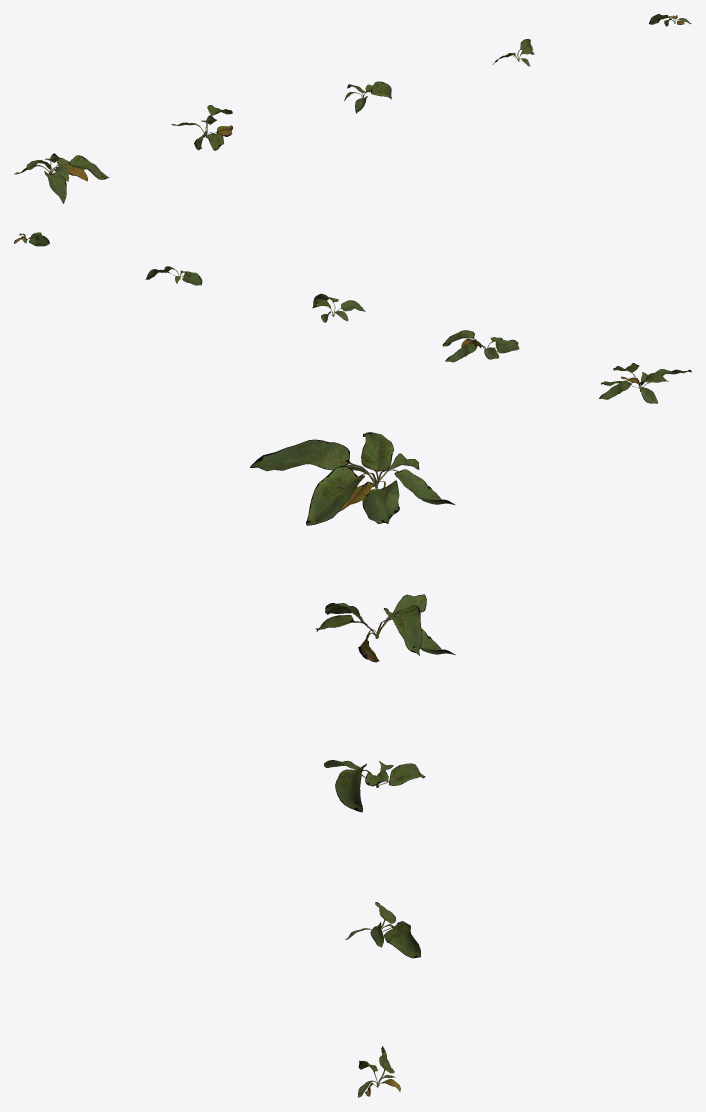
File: weed-plant-02-lod0.glb
3 views of the same model, one above another, from view 1: azimuth 30°, elevation 25°; view 2: azimuth 150°, elevation 25°; view 3: azimuth 270°, elevation 25° (orthographic). The views are drawn at different scales.
Visible parts, largest first — view 1: weed_plant_02_a_LOD0, weed_plant_02_c_LOD0; view 2: weed_plant_02_a_LOD0, weed_plant_02_c_LOD0; view 3: weed_plant_02_a_LOD0, weed_plant_02_c_LOD0.
Boxes of the visible parts, x1,y1,x2,y2 form: weed_plant_02_a_LOD0: (14,14,691,203); weed_plant_02_c_LOD0: (344,81,391,113); weed_plant_02_a_LOD0: (14,232,691,403); weed_plant_02_c_LOD0: (312,293,365,322); weed_plant_02_a_LOD0: (250,432,455,1097); weed_plant_02_c_LOD0: (324,760,425,812).
Size of the model in its own units: 2.13 by 0.0751 by 0.291.
1 material, 1 textured.
